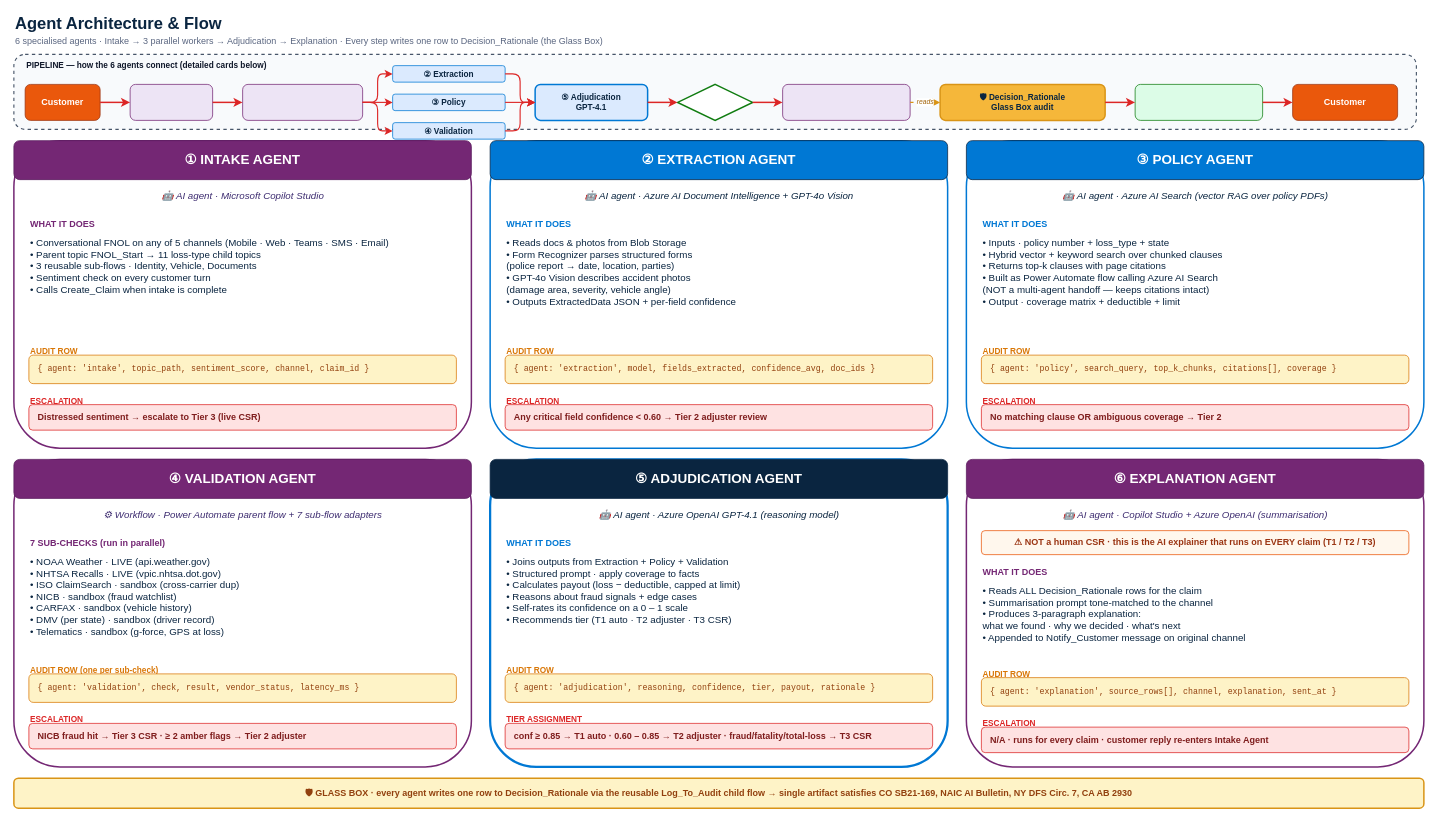
This 1437x821 diagram has some shape labels left out. The centre of each missing label's shape, as x and y in pixels:
Master Orch (Power Automate): point (302, 102)
Notify_Customer: point (1198, 102)
Router: point (714, 102)
① Intake: point (171, 102)
⑥ Explanation (AI — not CSR): point (846, 102)
